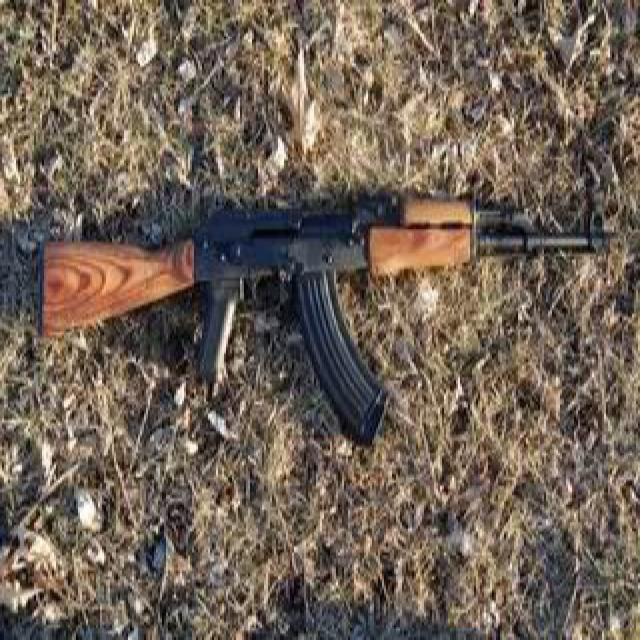long weapon: (20, 185, 616, 444)
